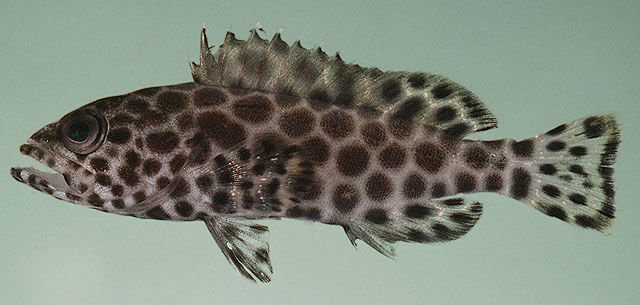fish: (10, 20, 623, 286)
